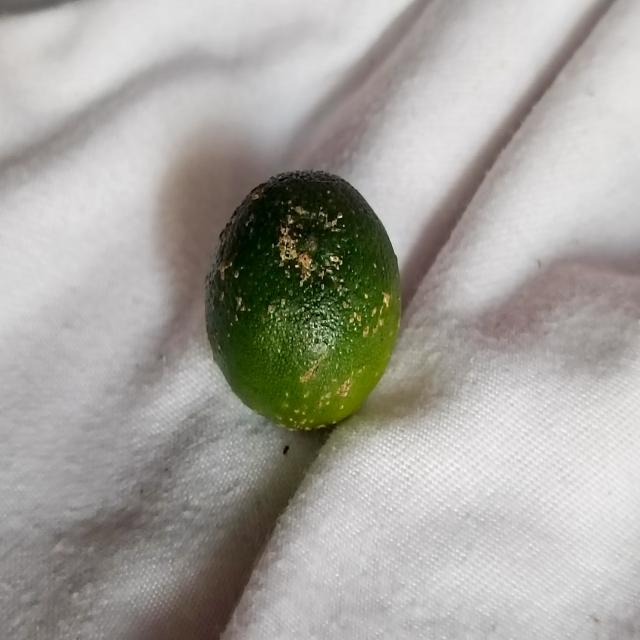scab: (200, 157, 405, 439)
